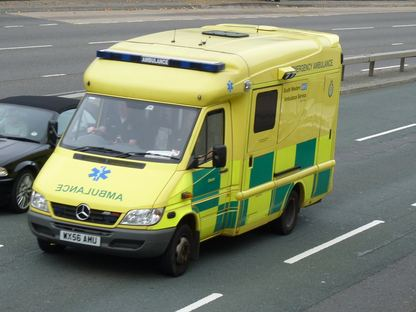ambulance: (25, 21, 345, 275)
